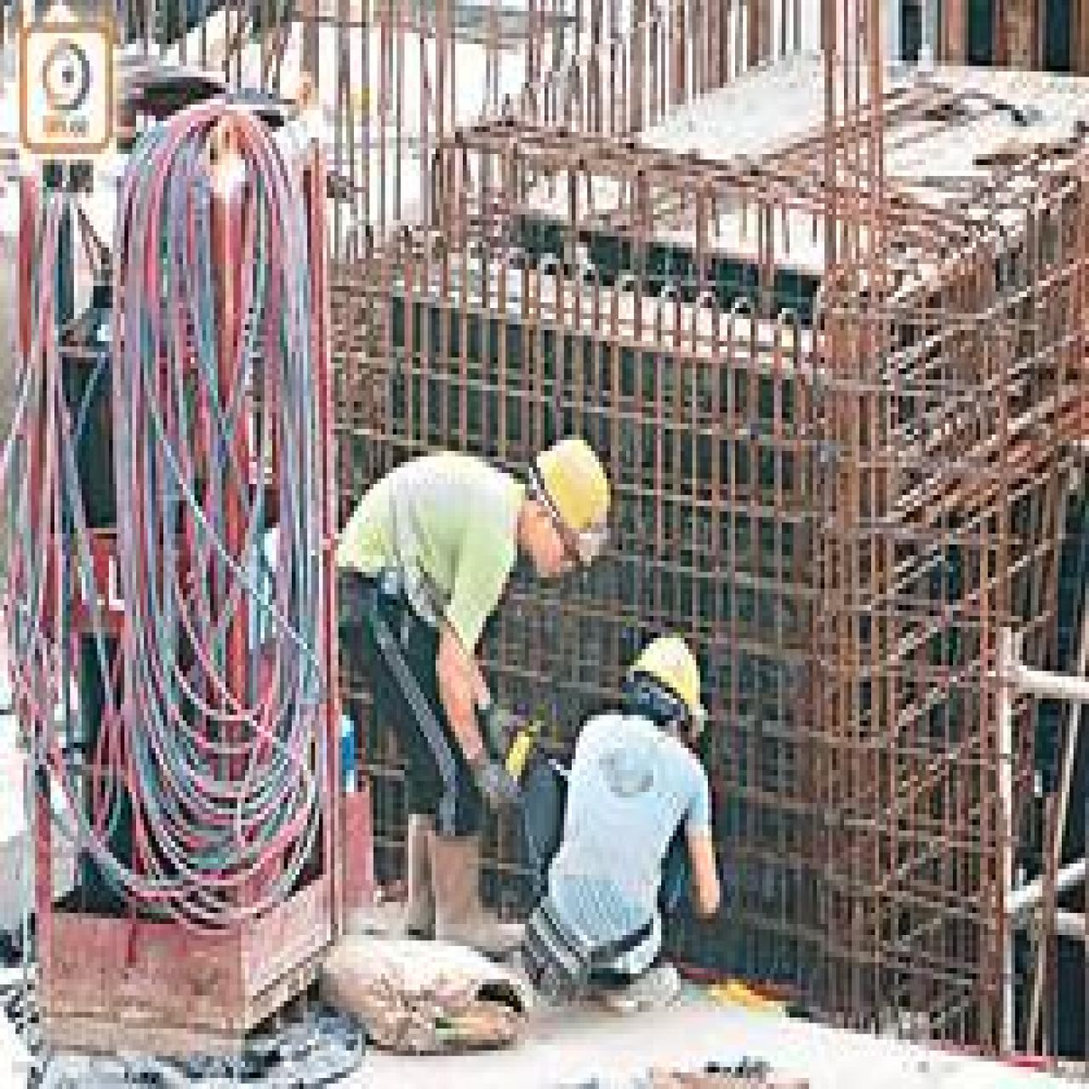NO_Safety_Vest: (549, 695, 695, 941), (340, 451, 526, 643)
Person: (305, 402, 623, 966), (515, 615, 740, 1045)
